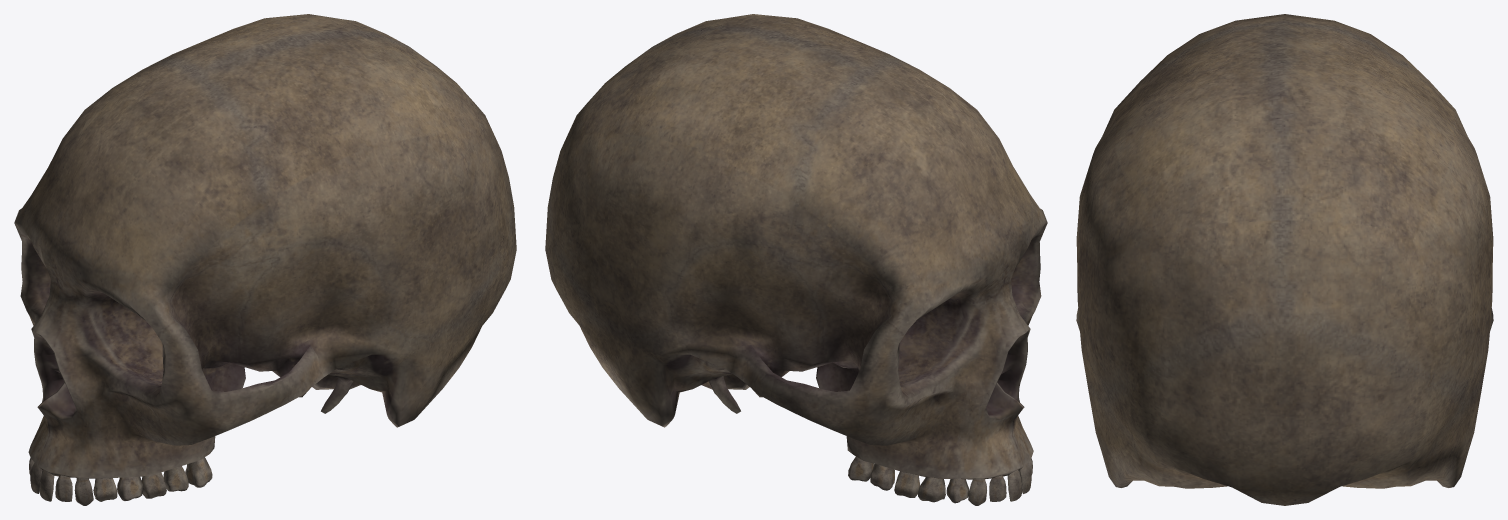
The model's file is sm_Skull_01_02.fbx.
3 renders of one model, left to right at view 1: azimuth 30°, elevation 25°; view 2: azimuth 150°, elevation 25°; view 3: azimuth 270°, elevation 25°, orthographic. The views are drawn at different scales.
Parts seen in each view (by area): view 1: sm_Skull_01_02_LOD0; view 2: sm_Skull_01_02_LOD0; view 3: sm_Skull_01_02_LOD0.
Part boxes in pixels (<box>): sm_Skull_01_02_LOD0: <box>14,14,516,505</box>; sm_Skull_01_02_LOD0: <box>545,14,1047,505</box>; sm_Skull_01_02_LOD0: <box>1076,14,1493,505</box>.
Size of the model in its own units: 23.98 by 16.42 by 20.01.
